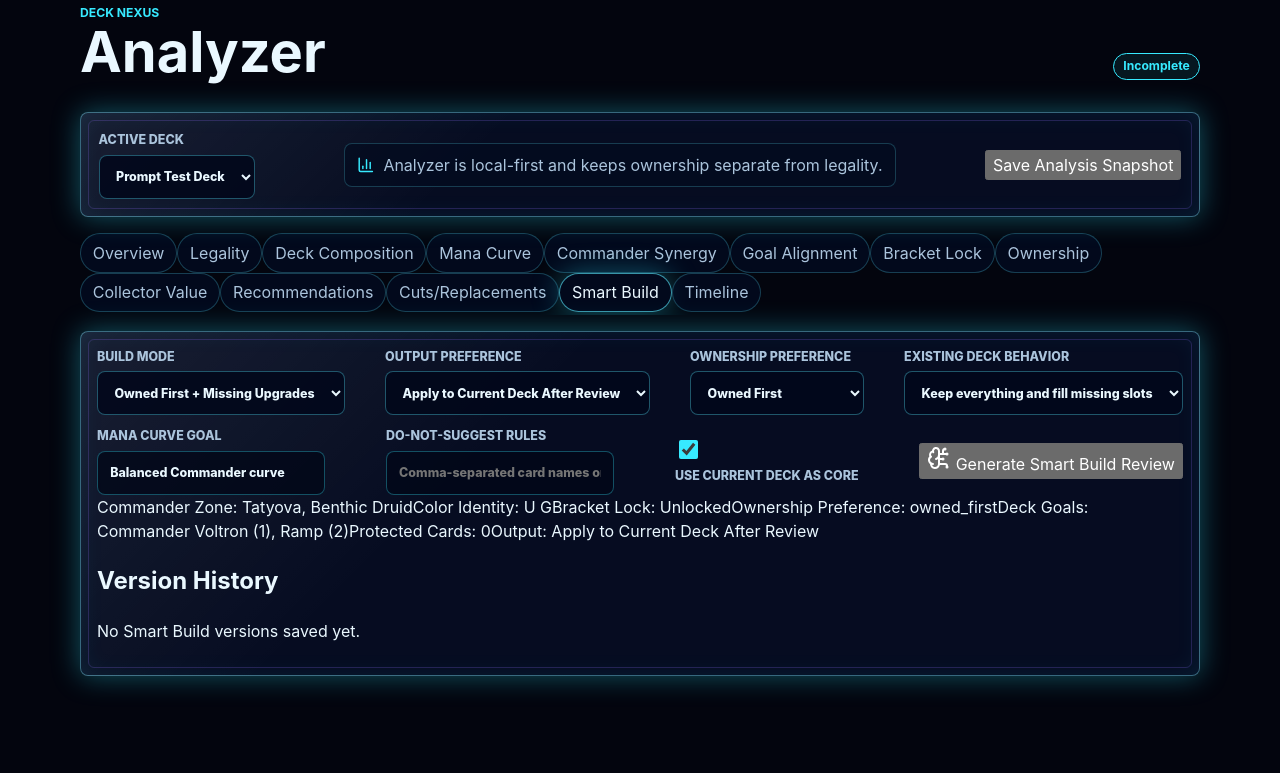
Test case: Prompt 4 analyzer, recommendations, and Smart Build › renders Analyzer with Smart Build and Recommendation tabs
Expected: the heading "Analyzer" is shown, [80,25,326,80]
Click the tab "Recommendations".
click(303, 292)  # box [220,273,386,312]
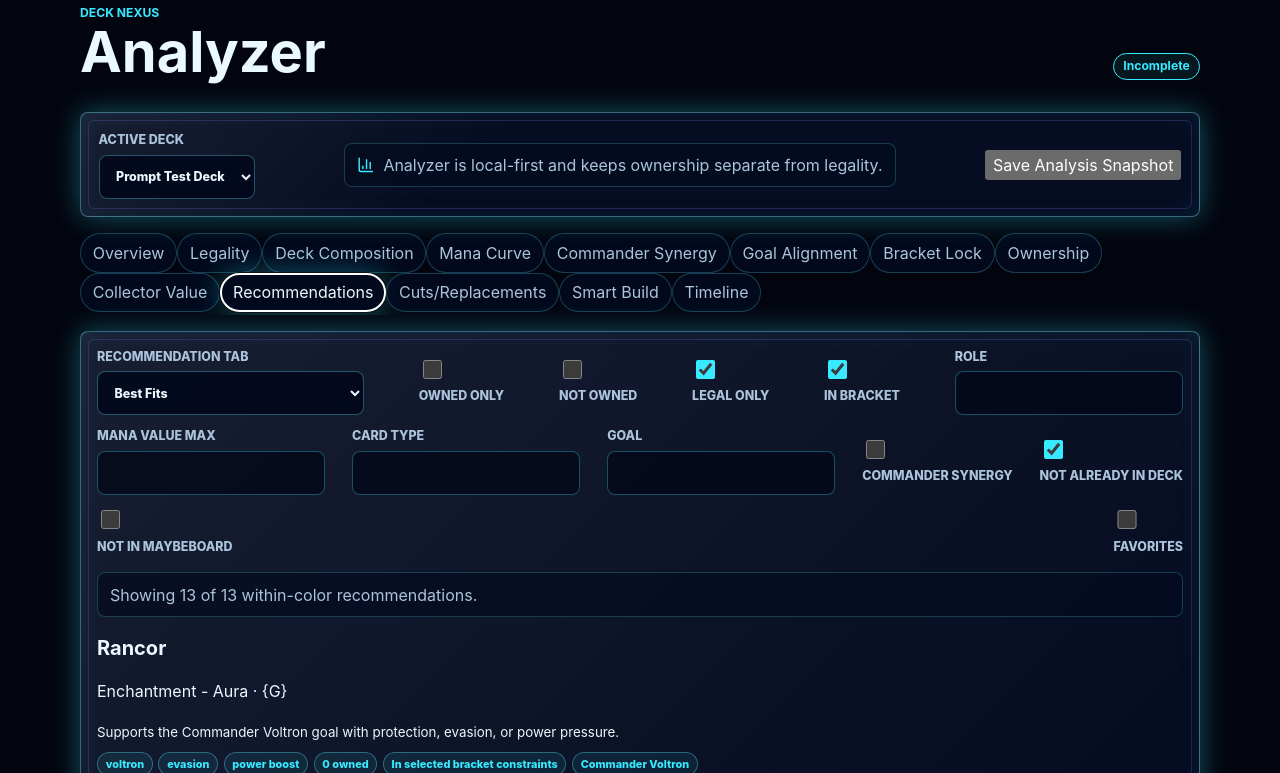
Click the tab "Smart Build".
click(615, 292)  # box [559,273,672,312]
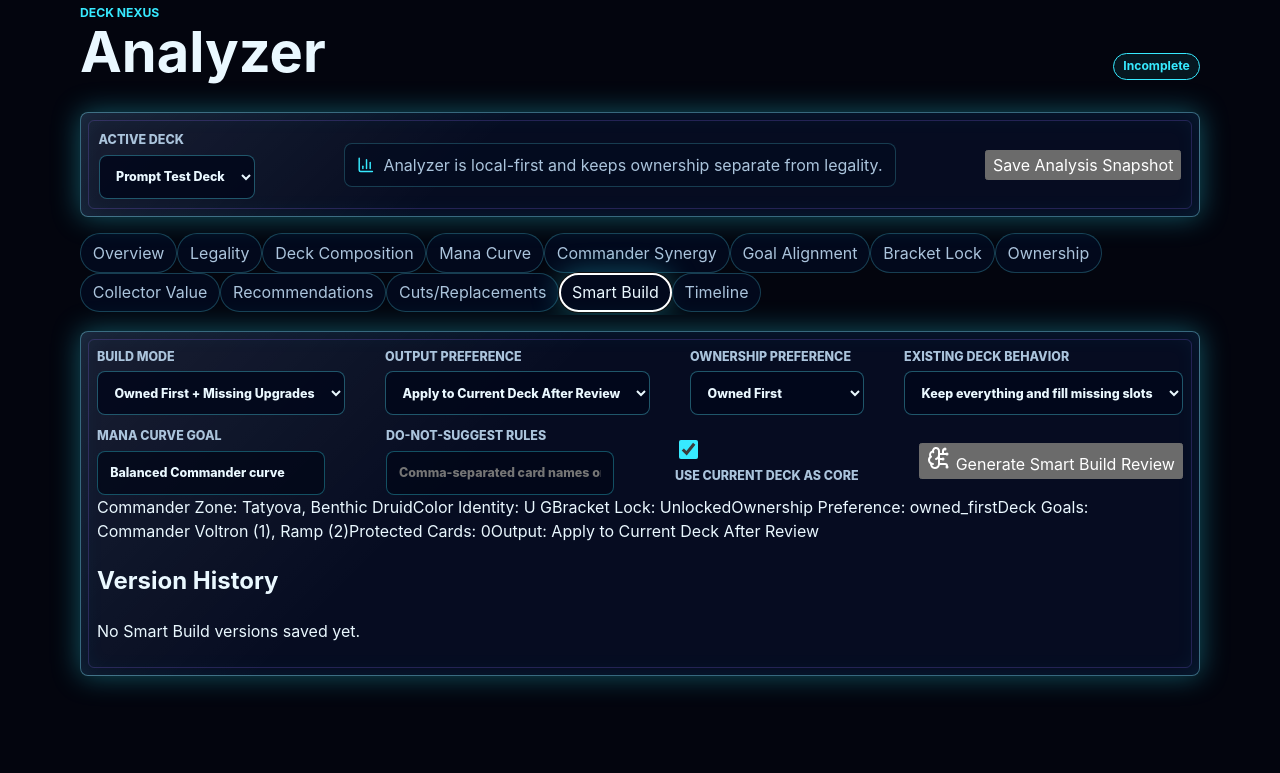
Click the button "Generate Smart Build Review".
click(1051, 461)  # box [919,443,1183,479]
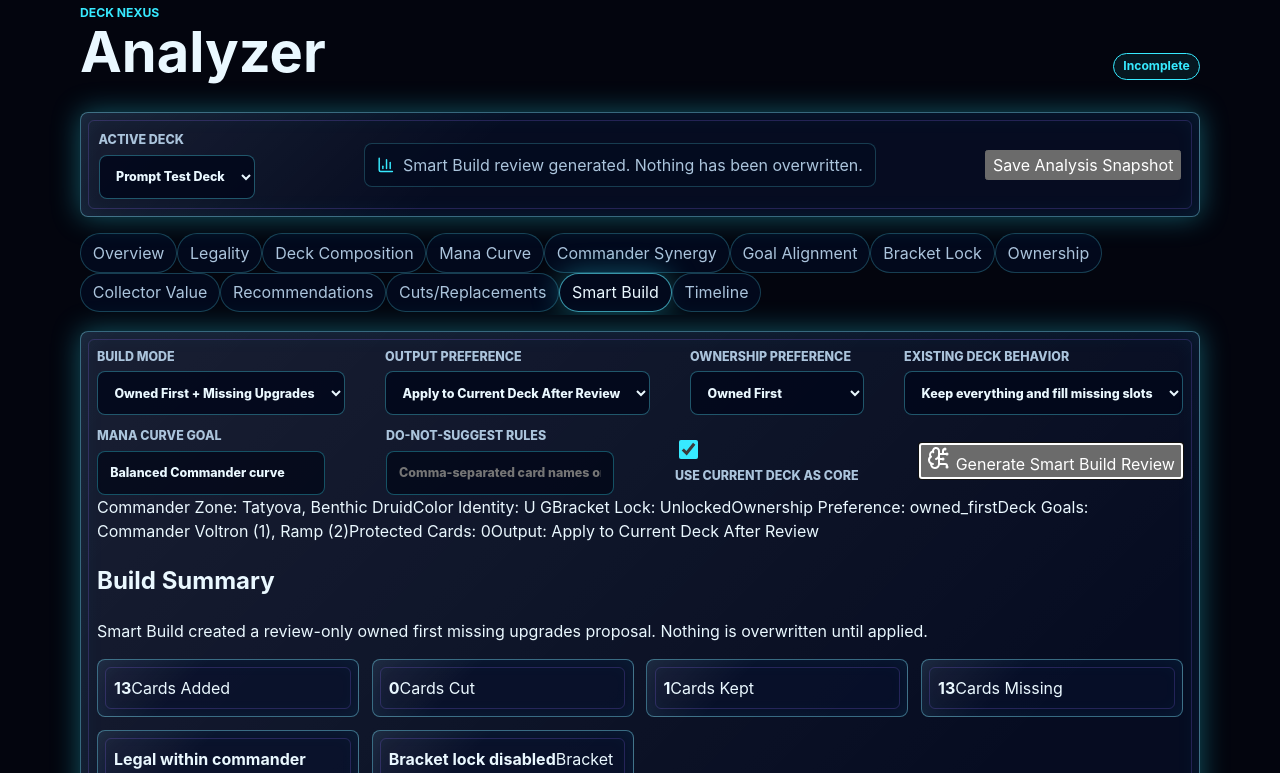
Now the heading "Build Summary" is shown, box [97,566,275,595]
